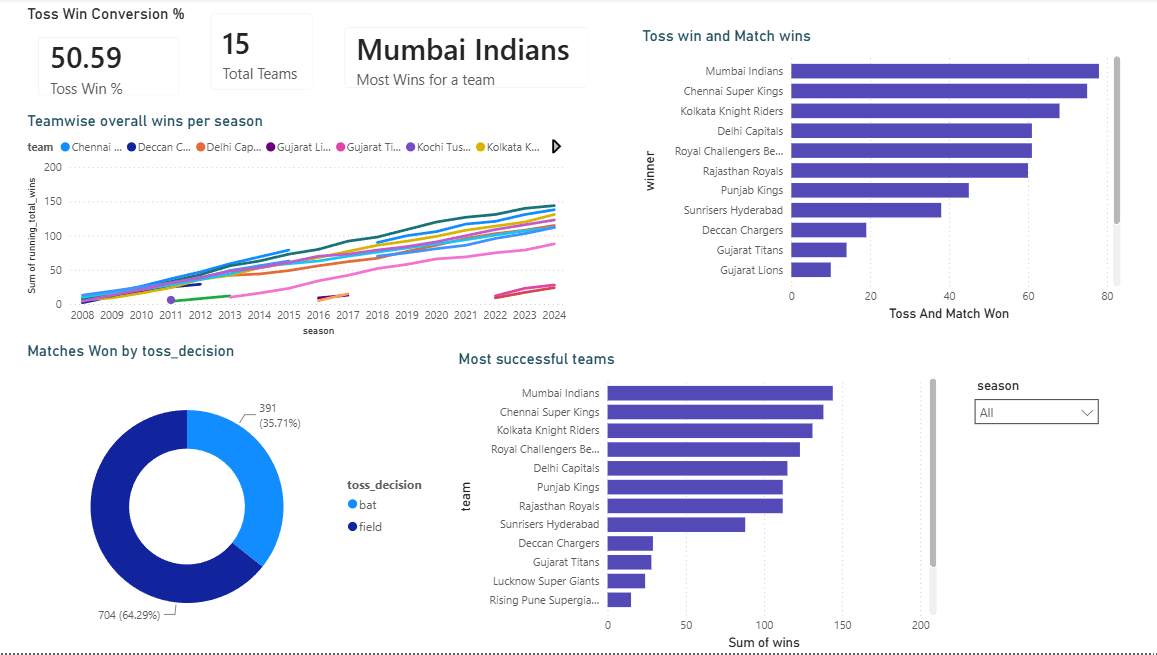

The dashboard page shown, as its layout file describes it:
{"tool":"powerbi","page":{"name":"Team Performance","canvas":[1280,720],"ordinal":4},"visuals":[{"type":"cardVisual","title":"Toss Win Conversion %","fields":{"Data":["ipl matches.Toss Win %"]},"box":[37,0,189.4,118],"z":0},{"type":"clusteredBarChart","title":"Most successful teams","fields":{"Category":["ipl team_summary.team"],"Y":["Sum(ipl team_summary.wins)"]},"box":[701.2,373.2,535.2,334.8],"z":1000},{"type":"donutChart","fields":{"Category":["ipl matches.toss_decision","ipl matches.winner"],"Y":["CountNonNull(ipl matches.id)"]},"box":[26.1,377.4,461.1,343.1],"z":2000},{"type":"clusteredBarChart","title":"Toss win and Match wins","fields":{"Category":["ipl matches.winner"],"Y":["ipl matches.Toss And Match Won"]},"box":[701.2,31.6,535.2,328],"z":3000},{"type":"lineChart","title":"Teamwise overall wins per season","fields":{"Y":["Sum(ipl running_total_wins.running_total_wins)"],"Category":["ipl running_total_wins.season"],"Series":["ipl running_total_wins.team"]},"box":[26.1,124.9,603.8,251.1],"z":4000},{"type":"cardVisual","title":"IPL teams","fields":{"Data":["ipl matches.Total Teams"]},"box":[226.4,0,146.8,118],"z":5000},{"type":"cardVisual","fields":{"Data":["Min(ipl team_summary.team)"]},"box":[382.8,16.5,301.9,101.5],"z":6000},{"type":"slicer","fields":{"Values":["ipl matches.season"]},"box":[533.8,395.2,140,312.9],"z":7000}]}

Visuals, with their boxes in screenshot pixels (x1, y1, x2, y2), scaled from the page's 1280x720 canvas onto the 1157x655 screenshot:
"Toss Win Conversion %" cardVisual: box(33, 0, 205, 107)
"Most successful teams" clusteredBarChart: box(634, 340, 1118, 644)
donutChart - ipl matches.toss_decision x ipl matches.winner: box(24, 343, 440, 654)
"Toss win and Match wins" clusteredBarChart: box(634, 29, 1118, 327)
"Teamwise overall wins per season" lineChart: box(24, 114, 569, 342)
"IPL teams" cardVisual: box(205, 0, 337, 107)
cardVisual - Min(ipl team_summary.team): box(346, 15, 619, 107)
slicer - ipl matches.season: box(483, 360, 609, 644)
